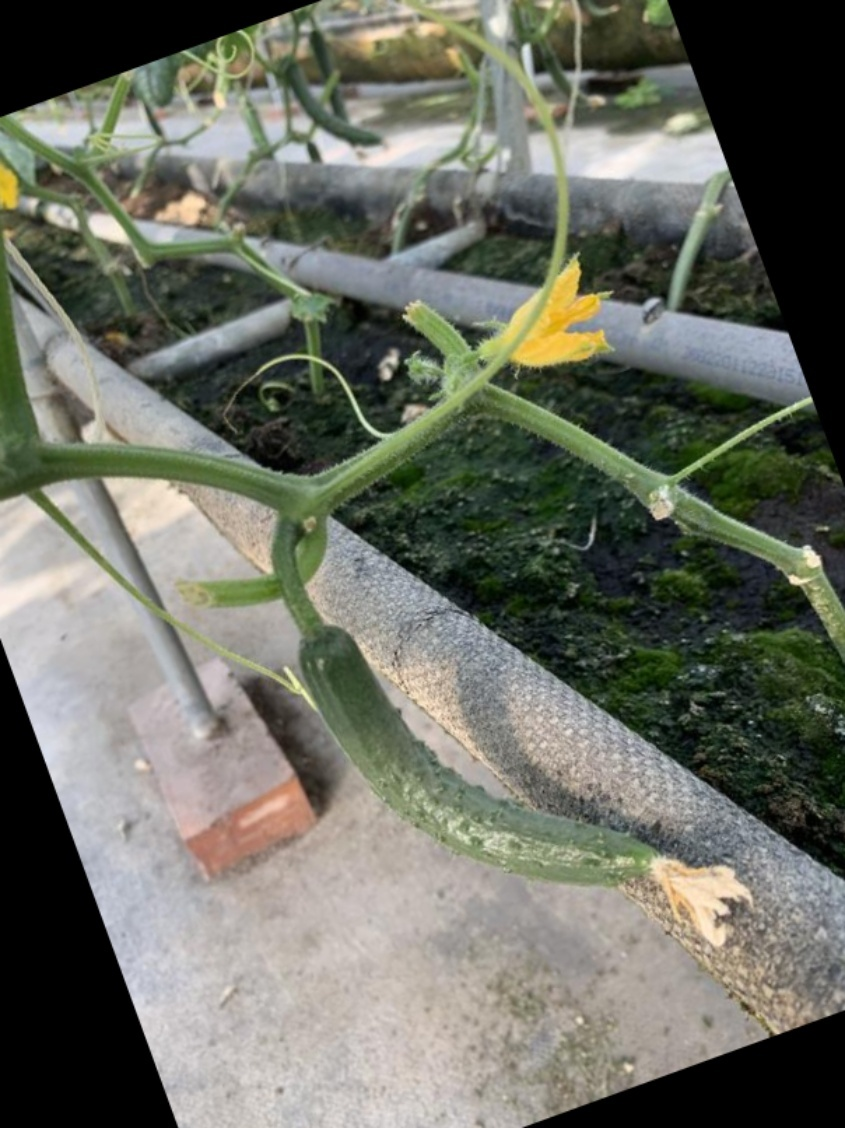growth: (296, 616, 733, 909)
